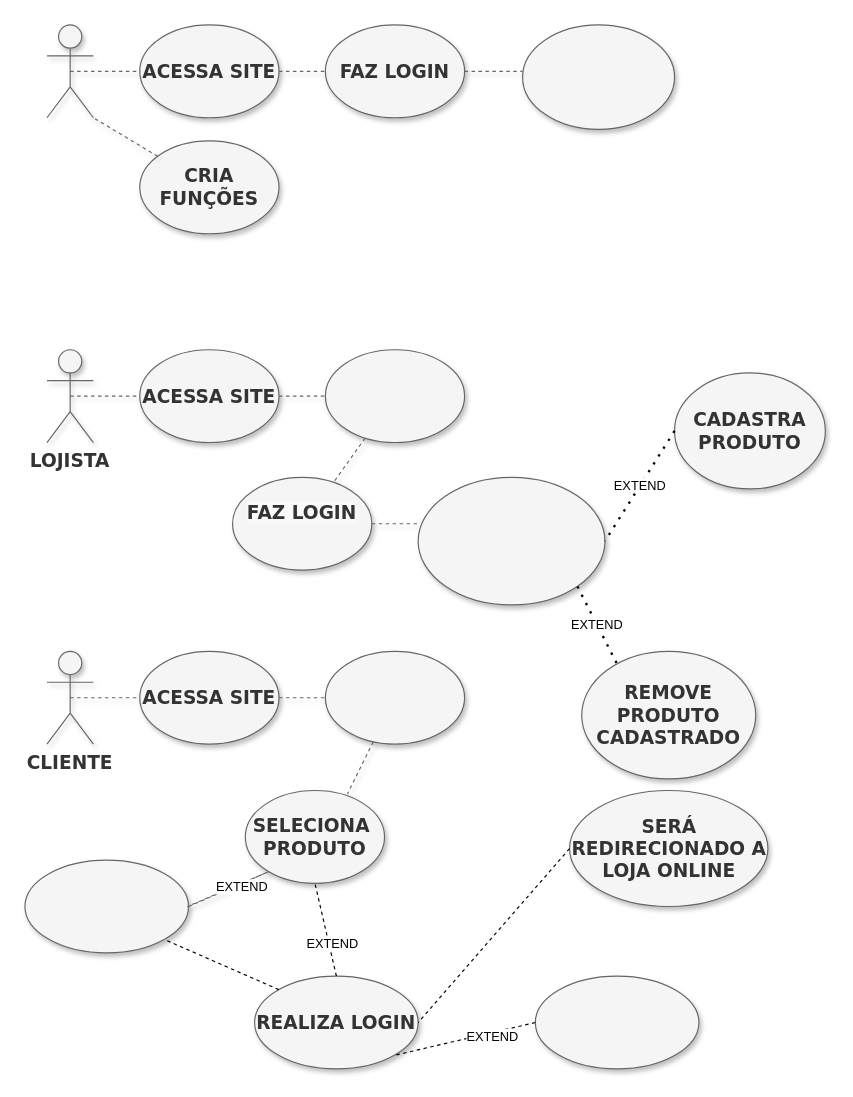
Some shapes in this 853 by 1097 pixel diagram are drawn without their labels. Here are the shapes that lost their labels. From the top down, the centre of each, then its label:
At [70,72]: "ADM".
At [599,78]: "ORGANIZA BANCO DE DADOS".
At [396,397]: "CADASTRA LOJA".
At [512,542]: "VAI PARA TELA DE CASDASTRAR PRODUTO".
At [396,699]: "VIZUALIZA PRODUTO".
At [107,907]: "SE CADASTRA".
At [618,1023]: "FAVORITA PRODUTO".
